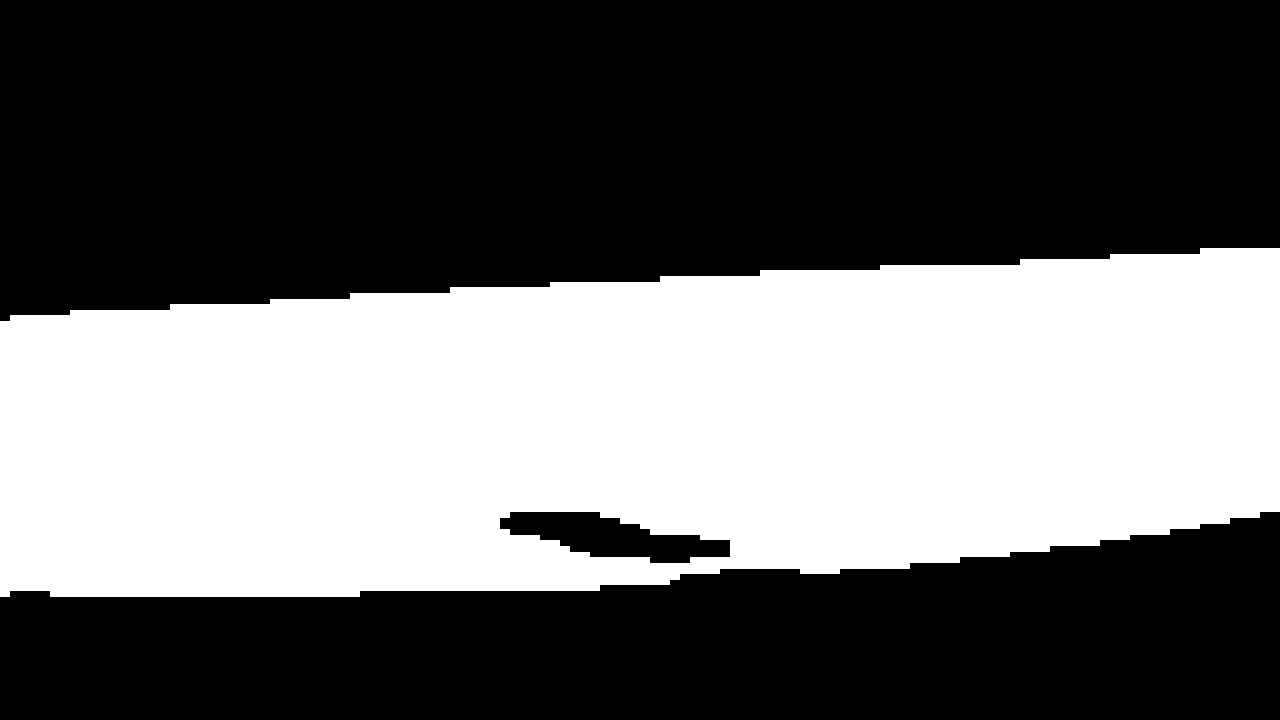Turbine: (12, 281, 1269, 599)
